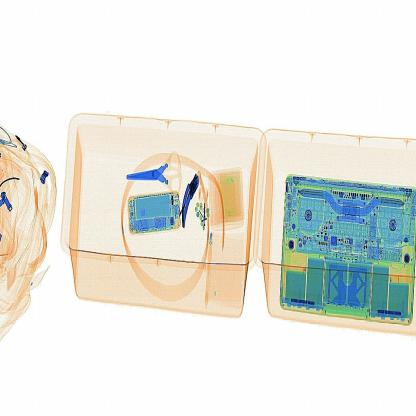gun: (118, 145, 197, 205)
